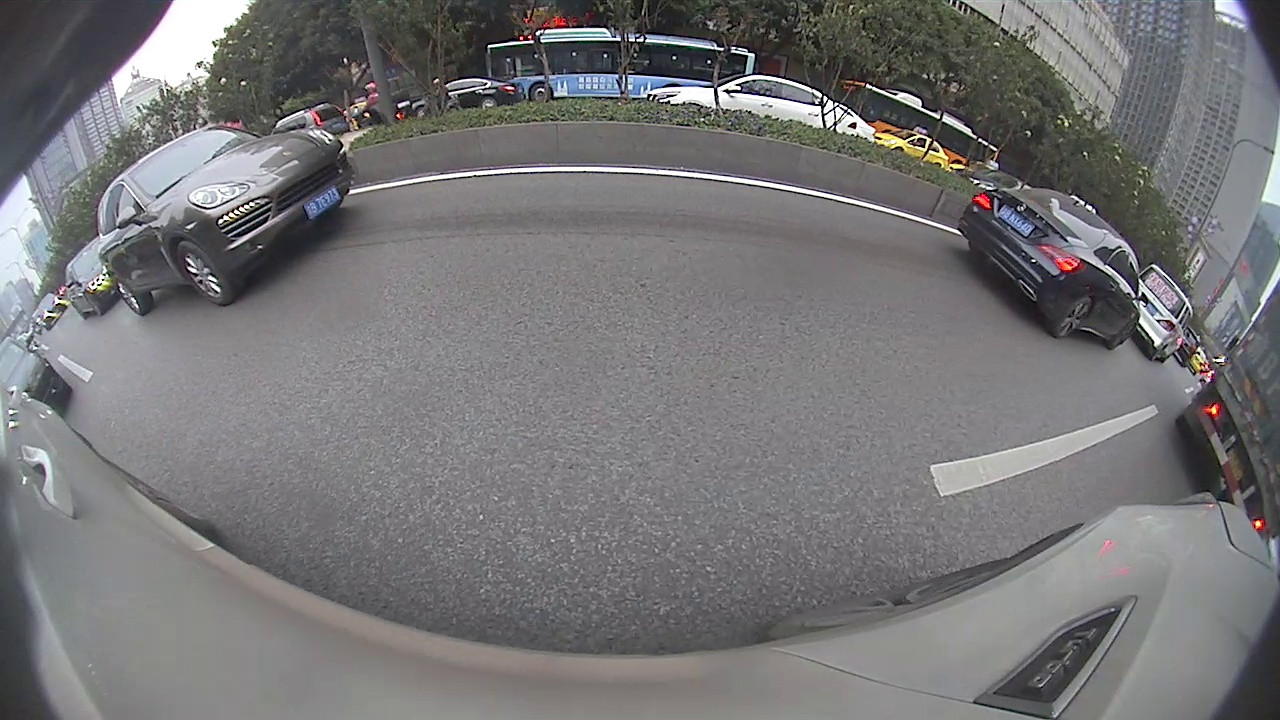car: (234, 160, 483, 296), (483, 150, 564, 208), (592, 144, 647, 197), (662, 153, 715, 194), (550, 162, 586, 192)
front: (462, 194, 482, 229)
person: (788, 145, 799, 184), (770, 152, 779, 182)
rear: (351, 223, 386, 276)
rider: (32, 288, 162, 407)
